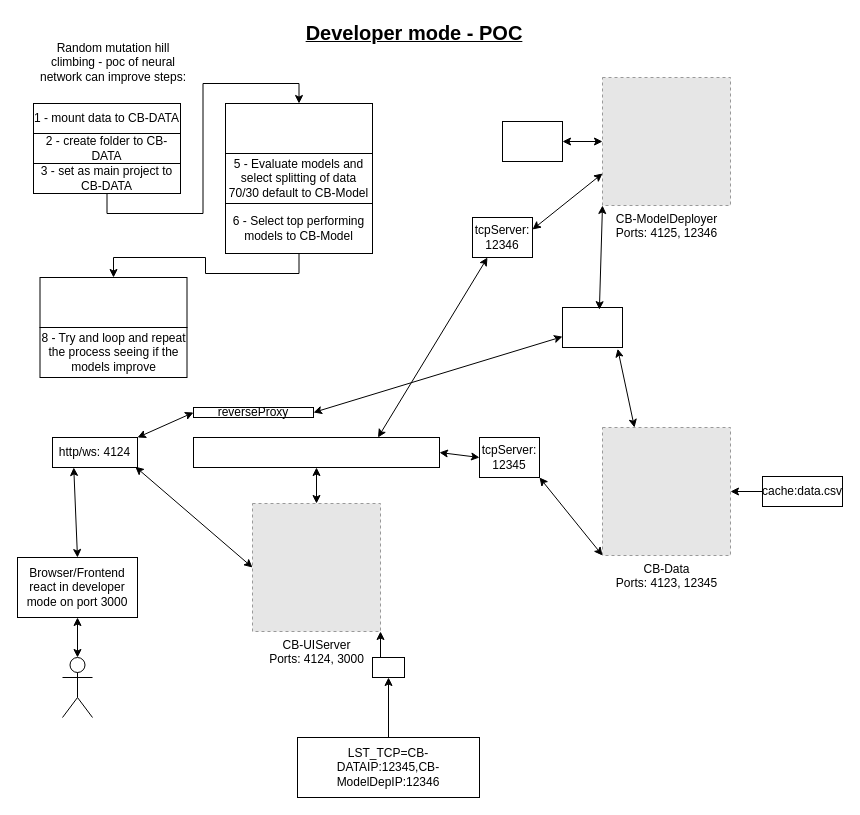
The diagram is 860 pixels wide and 815 high, and some of its shapes have lost their labels. Grey dashed boxes stand in for pictures. Here are the shapes that lost their labels. From the top down, the box of each, then its label:
(224, 102, 372, 154): 4 - Select project path n data and then press initialize to CB-Model
(502, 120, 562, 162): http: 4125
(39, 276, 187, 328): 7 - Mutate for next generation
(562, 306, 622, 348): http: 4123
(192, 436, 440, 468): CLIENTSLST_TCPARRAYTOOTHERPODS
(62, 656, 92, 718): Clicks buttons
(372, 656, 404, 678): .env
